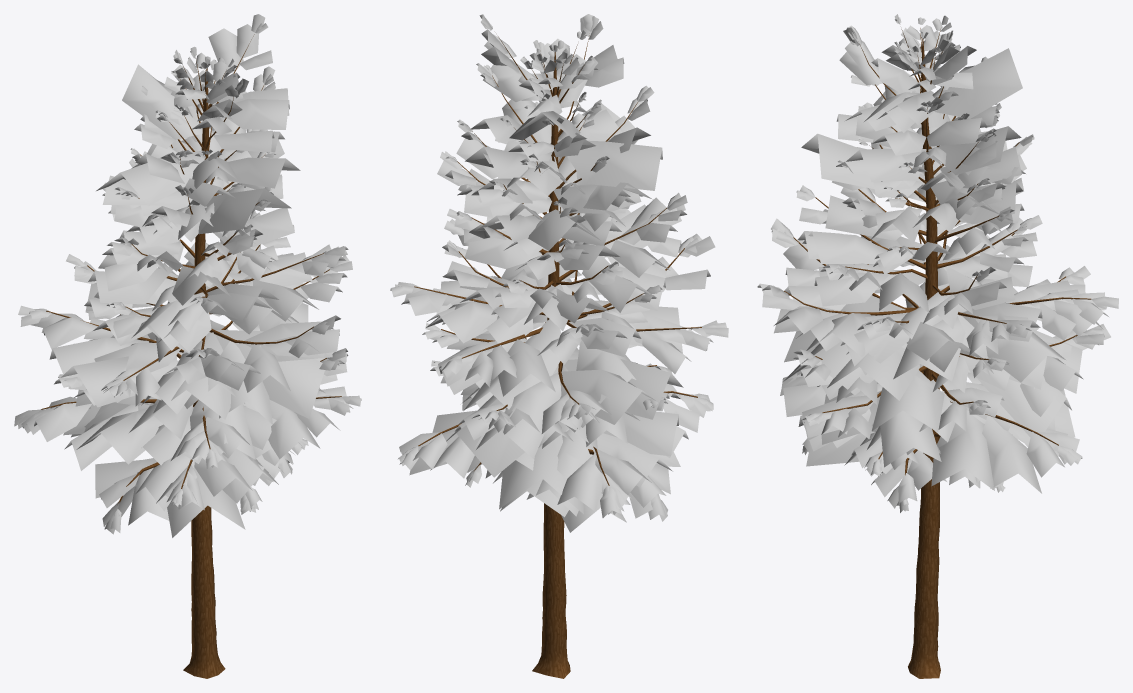
The model's file is conifer-tall-stumped.fbx.
The picture shows the model from 3 angles, left to right: view 1: azimuth 30°, elevation 25°; view 2: azimuth 150°, elevation 25°; view 3: azimuth 270°, elevation 25°; orthographic projection. The views are drawn at different scales.
Visible parts, largest first — view 1: MainTrunk, Stump; view 2: MainTrunk, Stump; view 3: MainTrunk, Stump.
Part boxes in pixels (<box>): MainTrunk: <box>14,14,361,630</box>; Stump: <box>183,624,225,678</box>; MainTrunk: <box>390,14,728,629</box>; Stump: <box>532,625,570,678</box>; MainTrunk: <box>757,14,1118,626</box>; Stump: <box>908,623,940,678</box>.
Bounding box in the file's own units: 928 × 2142 × 1060.
